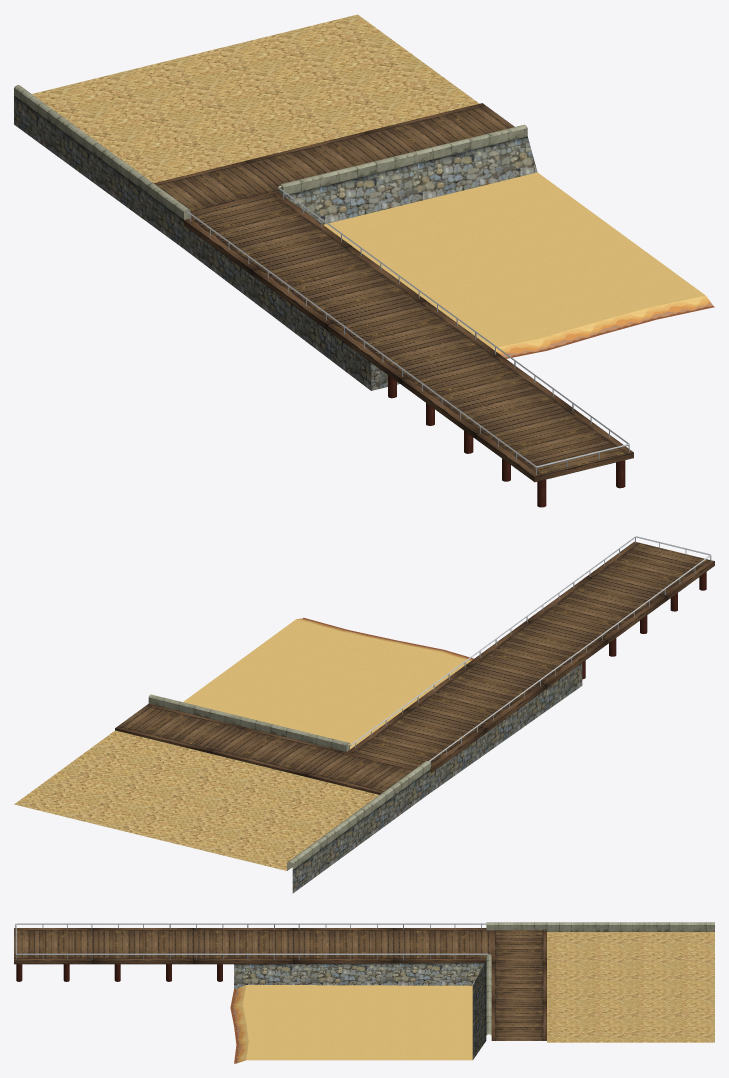
The model's file is Dock_Bridge_L.fbx.
The picture shows the model from 3 angles, top to bottom: view 1: azimuth 30°, elevation 25°; view 2: azimuth 150°, elevation 25°; view 3: azimuth 270°, elevation 25°; orthographic projection. The views are drawn at different scales.
Visible parts, largest first — view 1: Dock_Bridge_L; view 2: Dock_Bridge_L; view 3: Dock_Bridge_L.
Boxes of the visible parts, bbox=[...] form: Dock_Bridge_L: bbox=[14, 14, 714, 507]; Dock_Bridge_L: bbox=[14, 536, 714, 893]; Dock_Bridge_L: bbox=[14, 922, 714, 1063].
Bounding box in the file's own units: 10.27 × 1.26 × 26.94.
